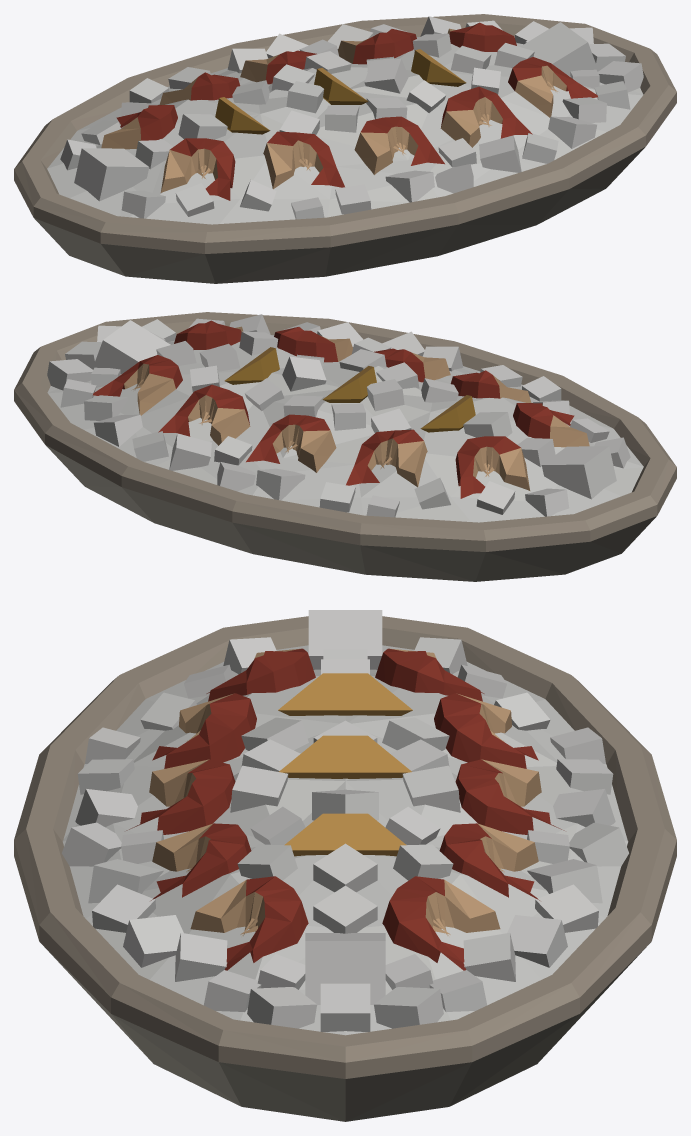
The model's file is seafood-ice-platter-625a4f.glb.
3 views of the same model, one above another, from view 1: azimuth 30°, elevation 25°; view 2: azimuth 150°, elevation 25°; view 3: azimuth 270°, elevation 25° (orthographic). The views are drawn at different scales.
Visible parts, largest first — view 1: platter, serving-mesh; view 2: platter, serving-mesh; view 3: platter, serving-mesh.
Part boxes in pixels (bbox=[...]): platter: bbox=[14, 14, 676, 283]; serving-mesh: bbox=[508, 57, 597, 117]; platter: bbox=[14, 312, 676, 581]; serving-mesh: bbox=[174, 320, 243, 349]; platter: bbox=[14, 610, 676, 1121]; serving-mesh: bbox=[190, 876, 308, 970].
Size of the model in its own units: 0.7 by 0.1274 by 0.44.
